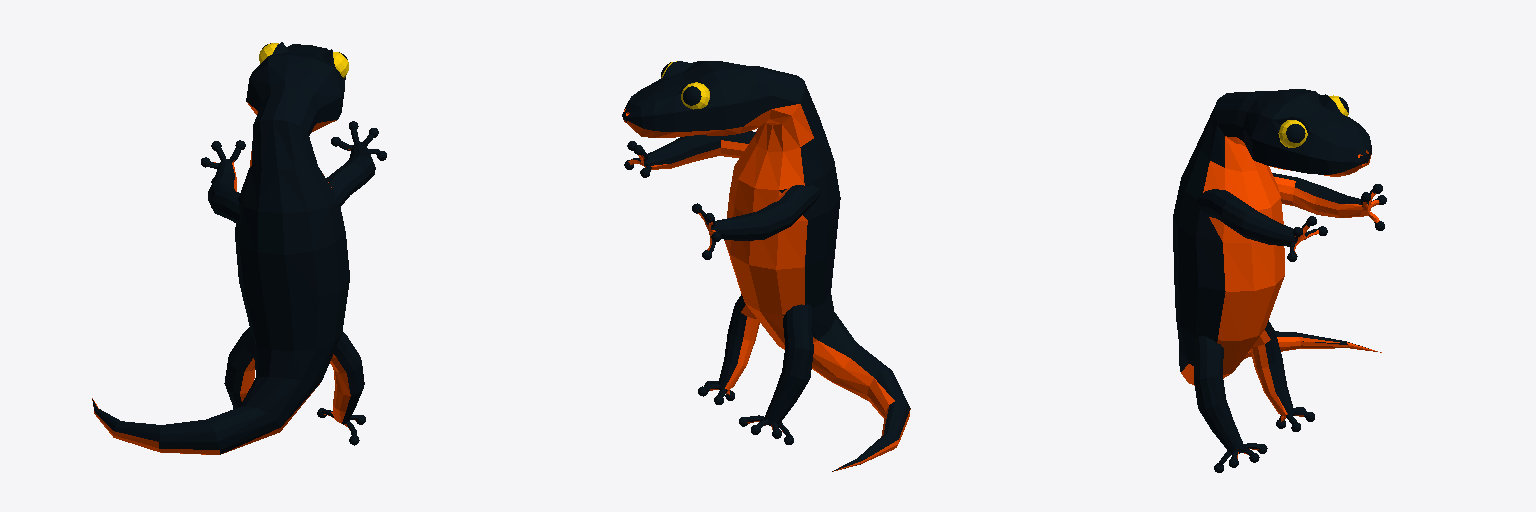
3 views of the same model, side by side, from view 1: azimuth 30°, elevation 25°; view 2: azimuth 150°, elevation 25°; view 3: azimuth 270°, elevation 25° (orthographic).
Visible parts, largest first — view 1: group[number redacted], group[number redacted], group[number redacted], group[number redacted], group[number redacted]; view 2: group[number redacted], group[number redacted], group[number redacted], group[number redacted], group[number redacted], group[number redacted]; view 3: group[number redacted], group[number redacted], group[number redacted], group[number redacted], group[number redacted], group[number redacted].
Boxes of the visible parts, x1,y1,x2,y2 form: group[number redacted]: [92, 42, 349, 454]; group[number redacted]: [322, 332, 364, 436]; group[number redacted]: [326, 129, 381, 206]; group[number redacted]: [207, 147, 240, 223]; group[number redacted]: [224, 327, 254, 408]; group[number redacted]: [622, 61, 910, 471]; group[number redacted]: [746, 304, 813, 437]; group[number redacted]: [698, 185, 819, 252]; group[number redacted]: [628, 131, 755, 171]; group[number redacted]: [704, 294, 759, 396]; group[number redacted]: [681, 82, 709, 109]; group[number redacted]: [1173, 89, 1381, 385]; group[number redacted]: [1193, 336, 1260, 465]; group[number redacted]: [1197, 189, 1318, 252]; group[number redacted]: [1272, 173, 1379, 223]; group[number redacted]: [1250, 320, 1308, 423]; group[number redacted]: [1278, 120, 1307, 147].
Bounding box in the file's own units: 2.45 × 3.13 × 1.65.